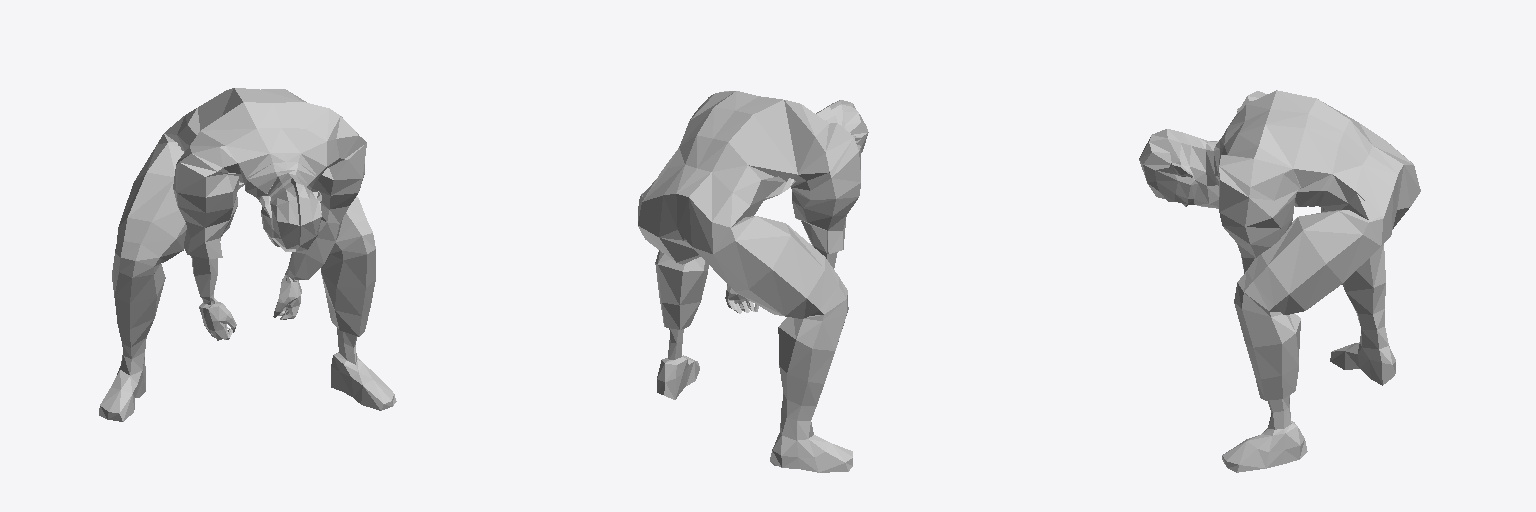
The model's file is ZombieAttack(48).obj.
3 renders of one model, left to right at view 1: azimuth 30°, elevation 25°; view 2: azimuth 150°, elevation 25°; view 3: azimuth 270°, elevation 25°, orthographic.
Parts seen in each view (by area): view 1: Plane002; view 2: Plane002; view 3: Plane002.
Boxes of the visible parts, box(x1,y1,x2,y2) form: Plane002: box(99, 88, 396, 421); Plane002: box(638, 91, 868, 472); Plane002: box(1139, 90, 1420, 472).
Size of the model in its own units: 833 by 1061 by 855.